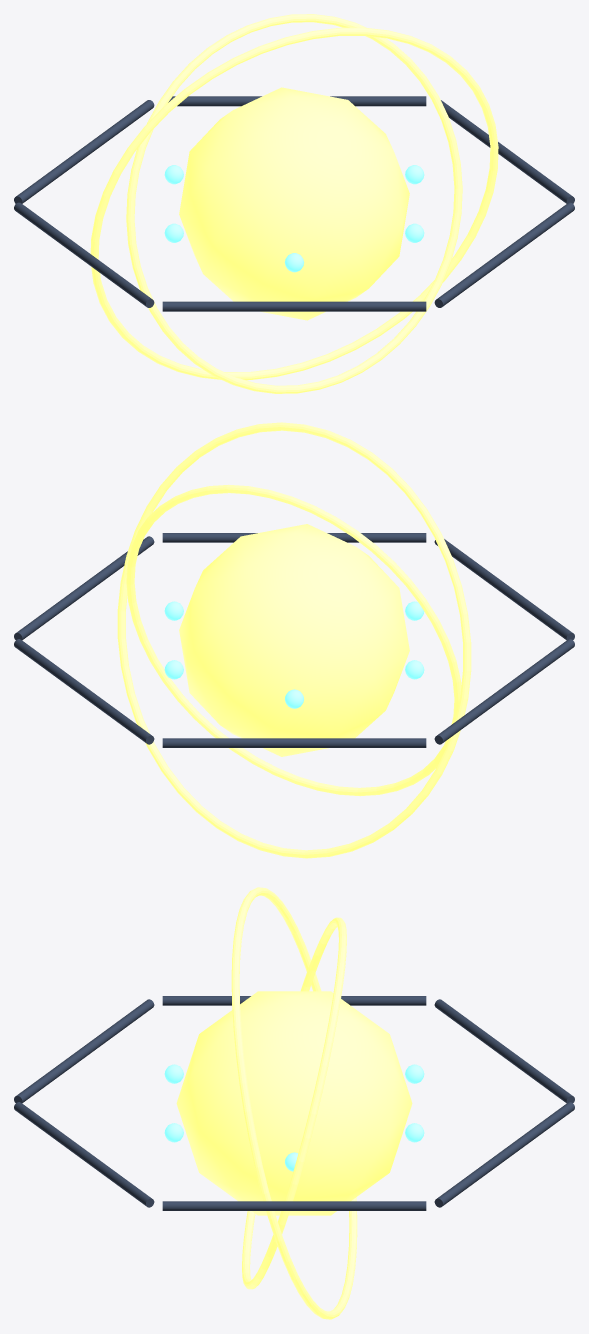
The model's file is energy-flow.glb.
3 views of the same model, one above another, from view 1: azimuth 30°, elevation 25°; view 2: azimuth 150°, elevation 25°; view 3: azimuth 270°, elevation 25° (orthographic).
Visible parts, largest first — view 1: Core, Ring_1, Ring_0, Cable_4, Cable_3, Cable_5, Cable_2, Cable_1, Cable_0; view 2: Core, Ring_1, Ring_0, Cable_2, Cable_1, Cable_3, Cable_4, Cable_5, Cable_0; view 3: Core, Ring_1, Ring_0, Cable_0, Cable_1, Cable_5, Cable_2, Cable_4, Cable_3.
Boxes of the visible parts, x1,y1,x2,y2 form: Core: (179, 87, 409, 320); Ring_1: (90, 27, 498, 380); Ring_0: (126, 14, 462, 393); Cable_4: (162, 301, 426, 311); Cable_3: (14, 202, 154, 307); Cable_5: (434, 202, 574, 307); Cable_2: (14, 100, 154, 203); Cable_1: (168, 96, 426, 106); Cable_0: (441, 100, 574, 203); Core: (179, 524, 409, 756); Ring_1: (117, 422, 471, 858); Ring_0: (126, 484, 461, 796); Cable_2: (162, 738, 426, 747); Cable_1: (14, 639, 154, 744); Cable_3: (434, 639, 574, 744); Cable_4: (434, 539, 574, 640); Cable_5: (162, 533, 426, 542); Cable_0: (14, 536, 154, 640); Core: (176, 991, 412, 1215); Ring_1: (231, 887, 357, 1319); Ring_0: (242, 917, 346, 1289); Cable_0: (162, 1201, 426, 1210); Cable_1: (434, 1102, 574, 1207); Cable_5: (14, 1102, 154, 1207); Cable_2: (434, 999, 574, 1103); Cable_4: (14, 999, 154, 1103); Cable_3: (162, 996, 426, 1005).
Size of the model in its own units: 3.57 by 3.07 by 4.04.
